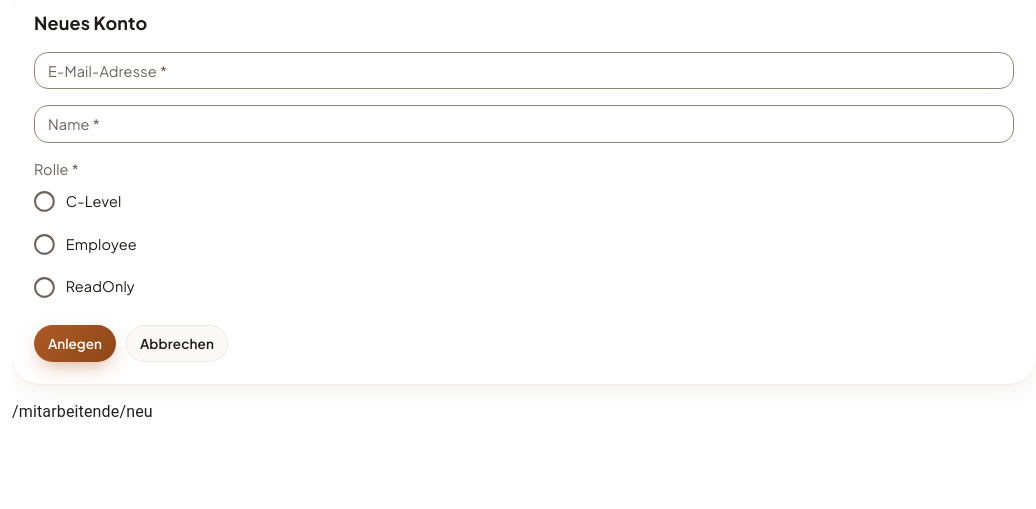
Test case: MitarbeiterMaske — Anlegen › verlangt alle drei Angaben, bevor etwas hinausgeht
Click the button "Anlegen" at (75, 344), box 34,325 -> 116,362
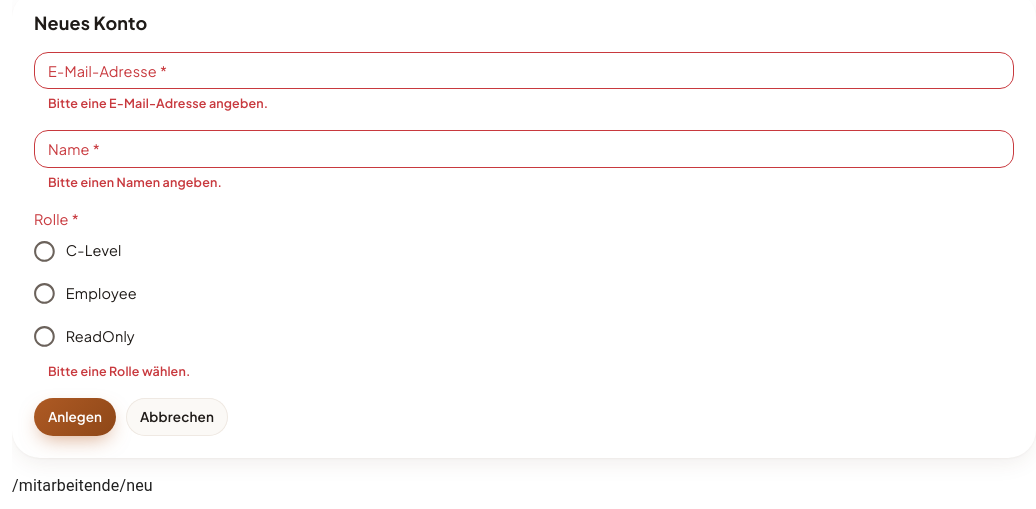
Check: the text "Bitte eine E-Mail-Adresse angeben." is shown, box 48,95 -> 268,111
Check: the text "Bitte einen Namen angeben." is shown, box 48,174 -> 222,190
Check: the text "Bitte eine Rolle wählen." is shown, box 48,363 -> 190,379
